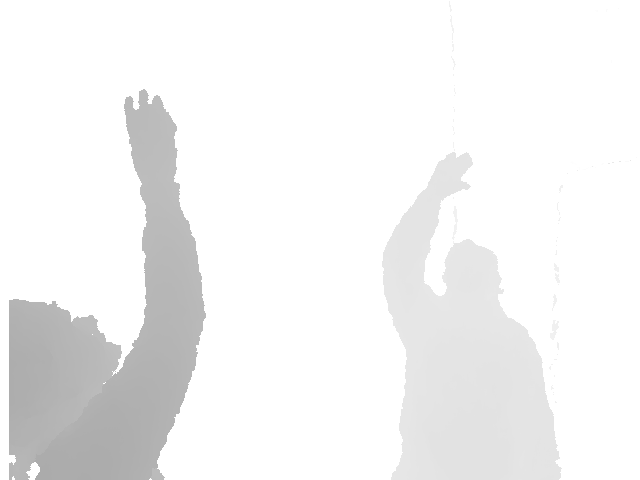hand: (123, 88, 180, 193), (424, 152, 473, 207)
head: (7, 299, 122, 431), (442, 238, 504, 313)
person: (9, 88, 208, 480), (380, 153, 564, 480)
